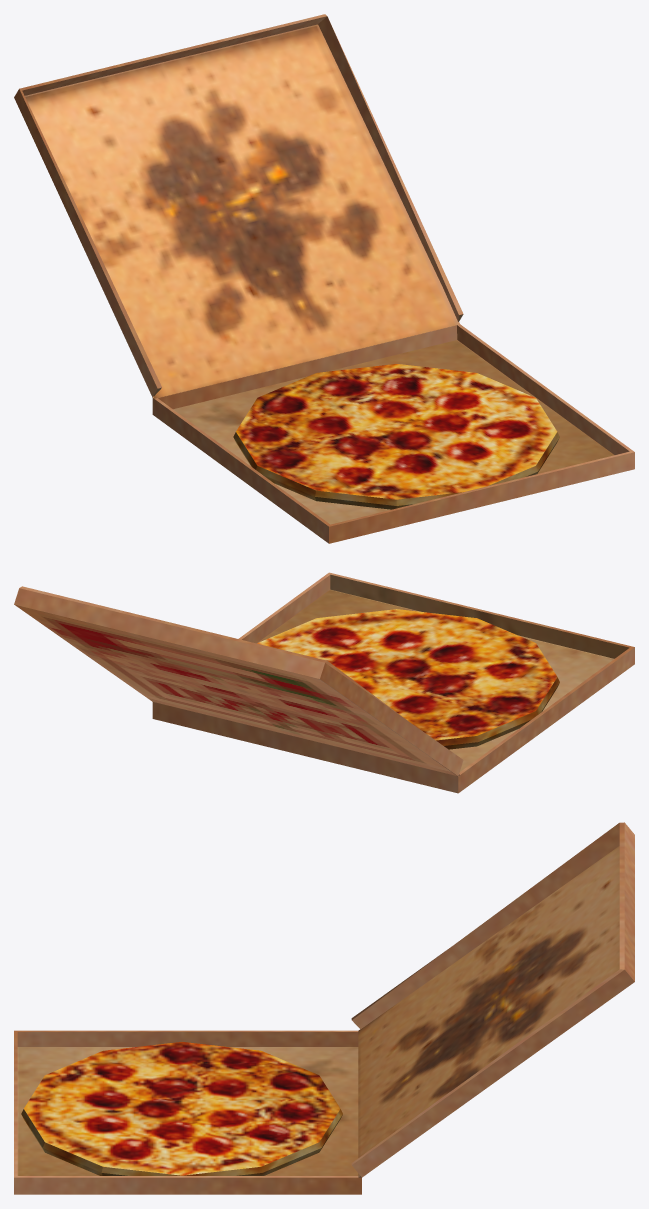
File: pizza_full.glb
3 renders of one model, top to bottom at view 1: azimuth 30°, elevation 25°; view 2: azimuth 150°, elevation 25°; view 3: azimuth 270°, elevation 25°, orthographic.
Parts seen in each view (by area): view 1: pizza full; view 2: pizza full; view 3: pizza full.
Boxes of the visible parts, <box> form: pizza full: <box>14,14,634,543</box>; pizza full: <box>14,572,634,793</box>; pizza full: <box>14,822,634,1194</box>.
Bounding box in the file's own units: 0.5276 × 0.3762 × 0.9413.
Materials: 2 (2 with a texture image).
